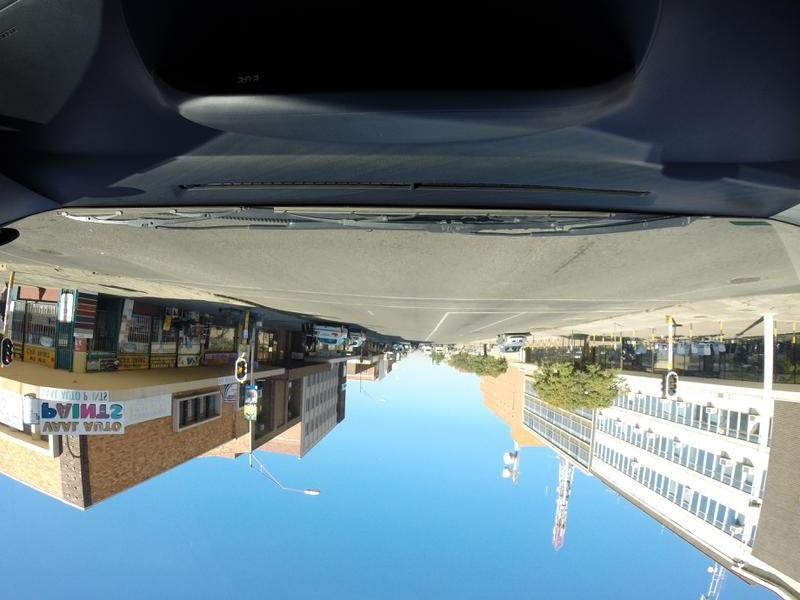pothole: (38, 244, 65, 255), (727, 277, 763, 282)
